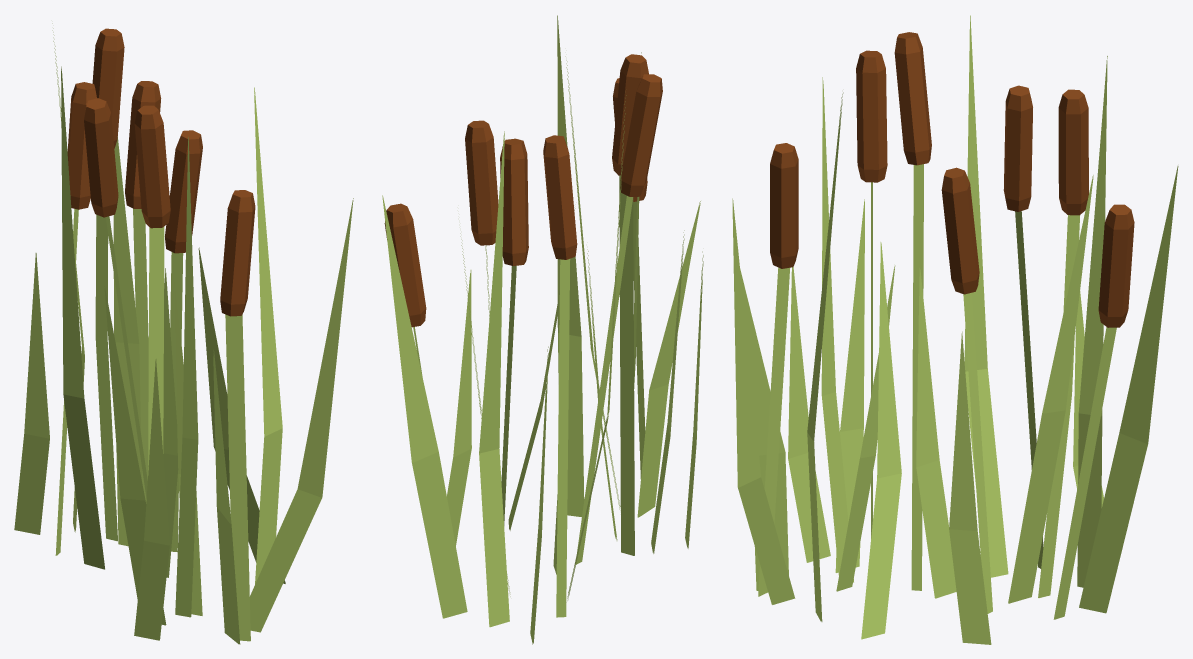
File: Plant5_tex.fbx
3 renders of one model, left to right at view 1: azimuth 30°, elevation 25°; view 2: azimuth 150°, elevation 25°; view 3: azimuth 270°, elevation 25°, orthographic. The views are drawn at different scales.
Visible parts, largest first — view 1: Plants5_tex; view 2: Plants5_tex; view 3: Plants5_tex.
Part boxes in pixels (left/top/right/bottom): Plants5_tex: left=14, top=23, right=353, bottom=644; Plants5_tex: left=382, top=15, right=703, bottom=644; Plants5_tex: left=732, top=15, right=1178, bottom=644.
Bounding box in the file's own units: 0.6569 × 1.72 × 1.29.
